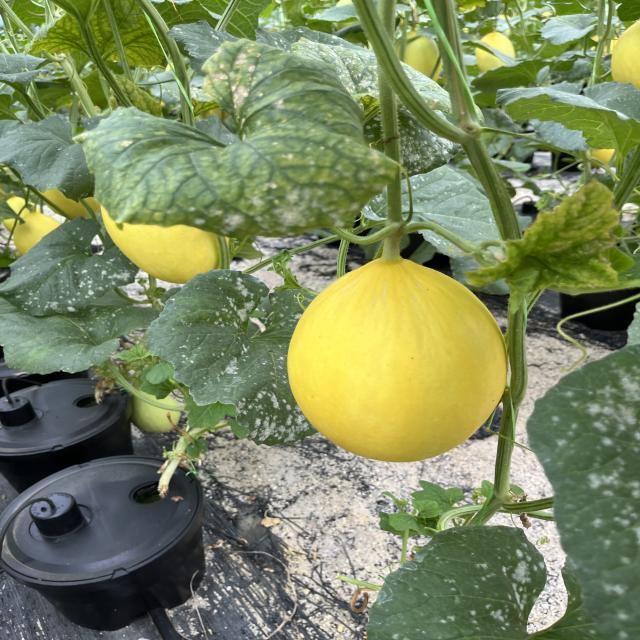CMV: (24, 0, 176, 70)
SLCV: (472, 178, 618, 296)
alternaria leaf blight: (84, 40, 392, 235), (293, 38, 451, 115)
downy mildew: (498, 80, 640, 164), (0, 103, 110, 201), (0, 43, 50, 93)
powdery mildew: (144, 266, 315, 444), (7, 216, 139, 318)
